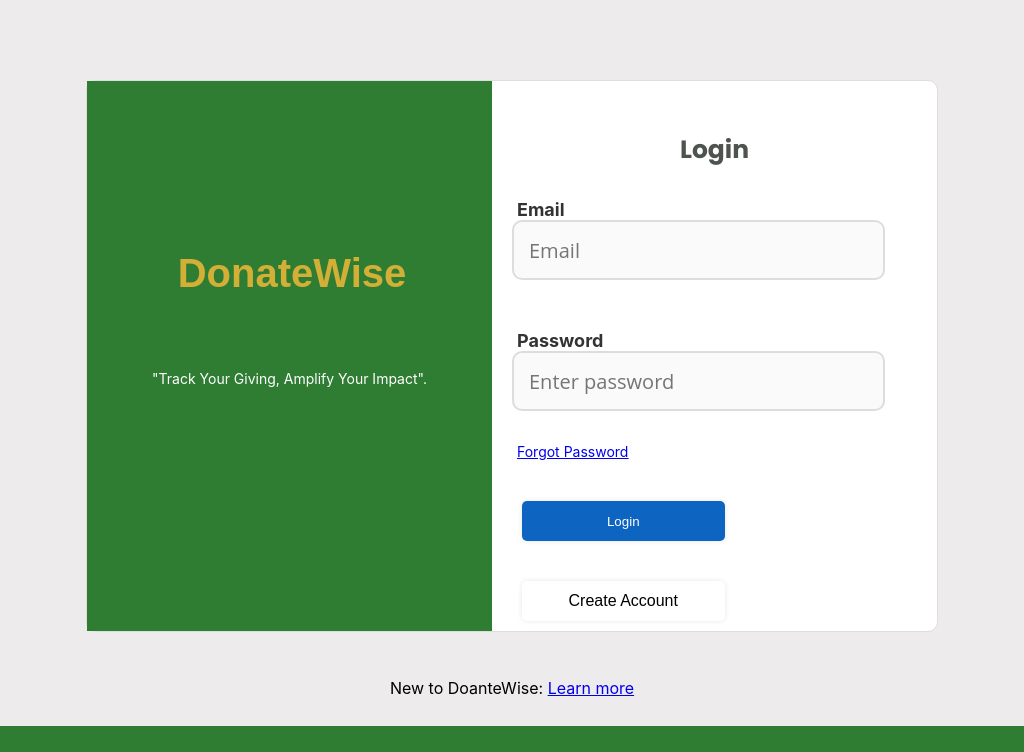
Test case: Login tests › should display error message when using invalid email
Step 1. Type "kirin@gmail.com" into the field with placeholder "Email" → (699,250), box [512,220,885,280]
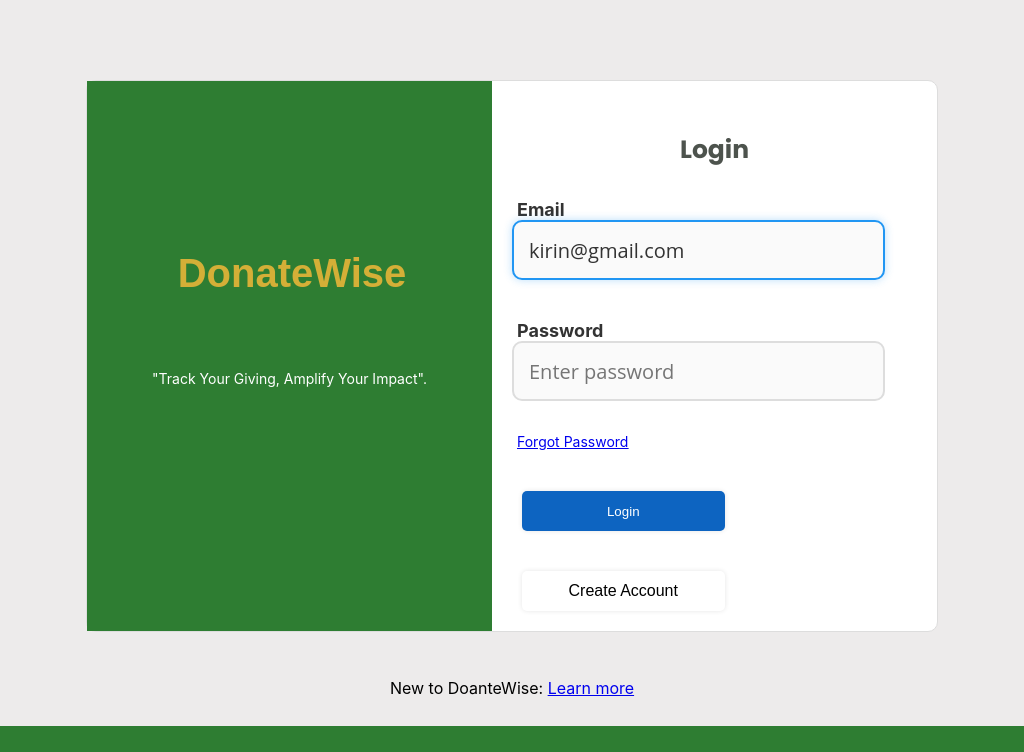
Step 2. Type "P@ssword98" into the password field with placeholder "Enter password" → (699,371), box [512,341,885,401]
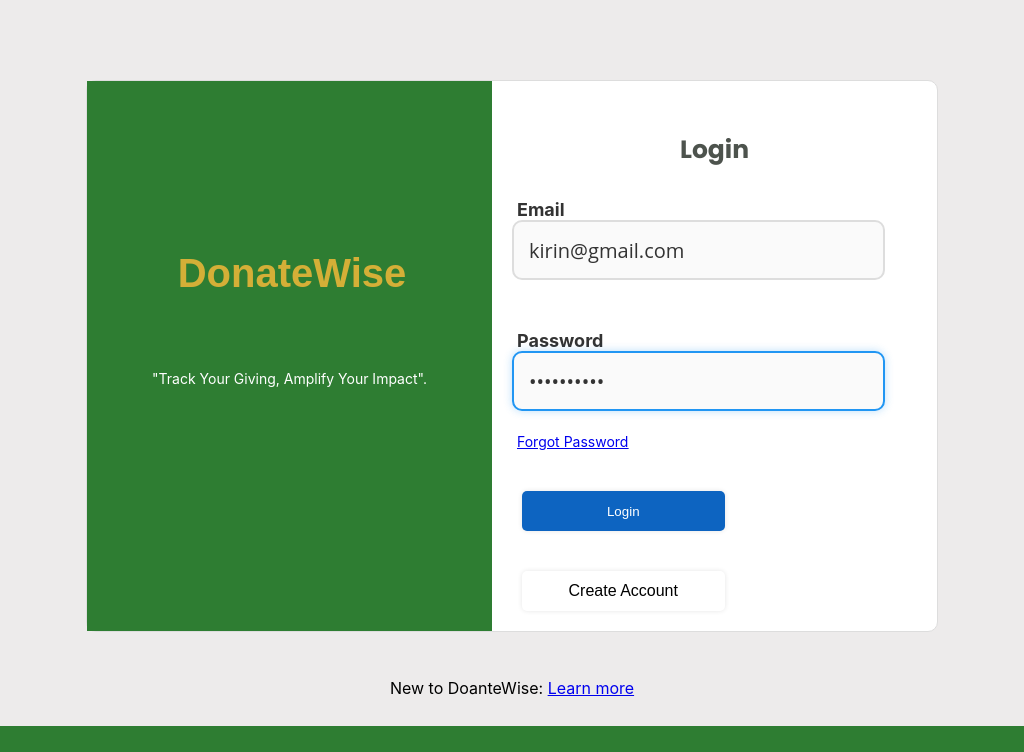
Step 3. Click the button "Login" → (624,511), box [522,491,725,531]
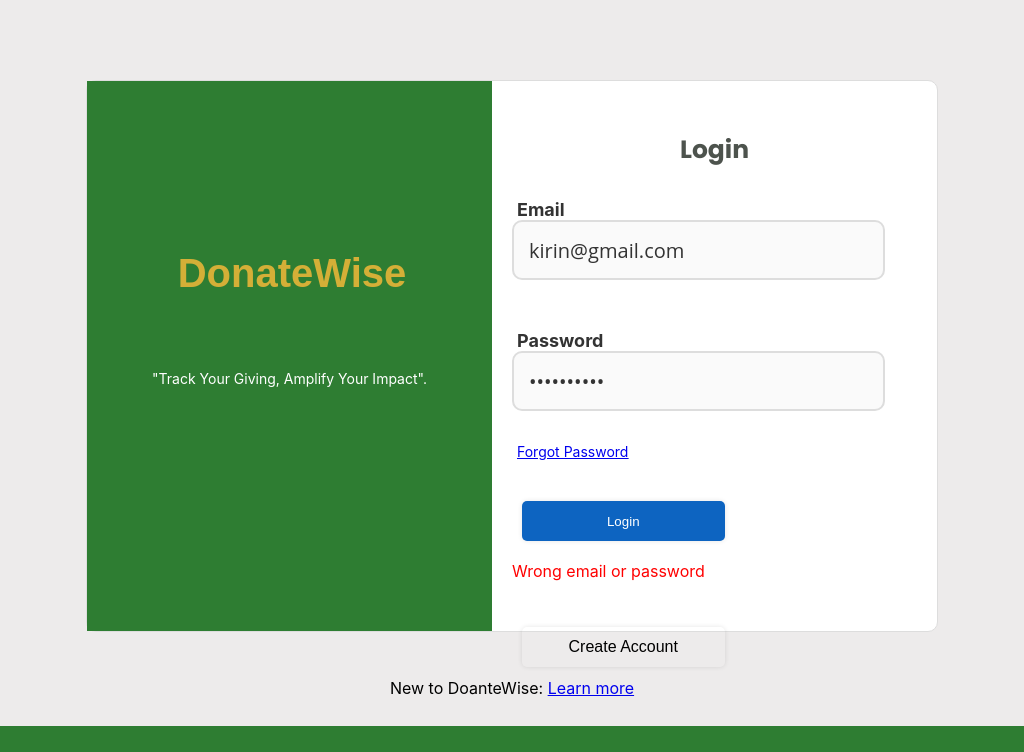
Result: the text "Wrong email or password" is shown at [512,561,705,581]
